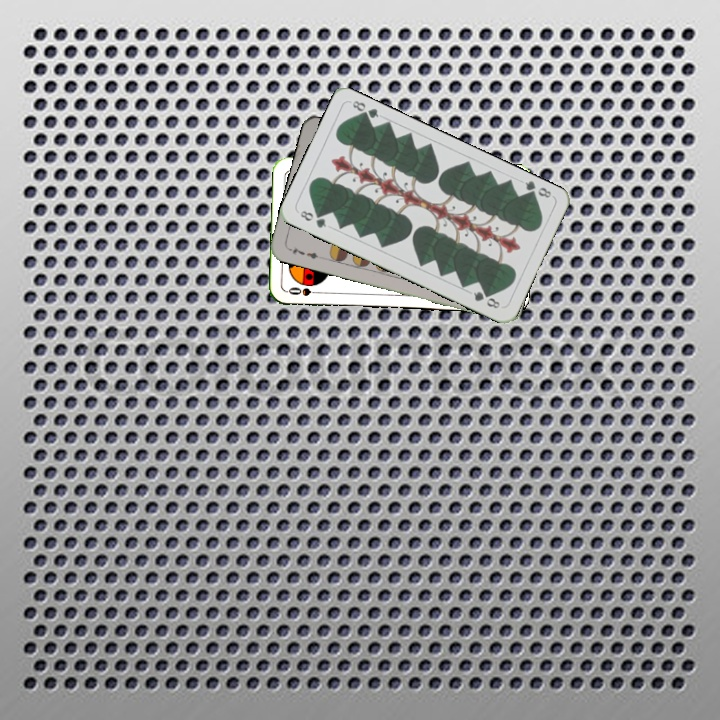E7: (284, 242, 324, 262)
G8: (296, 206, 329, 231), (521, 177, 554, 202)
SO: (284, 283, 324, 299)
